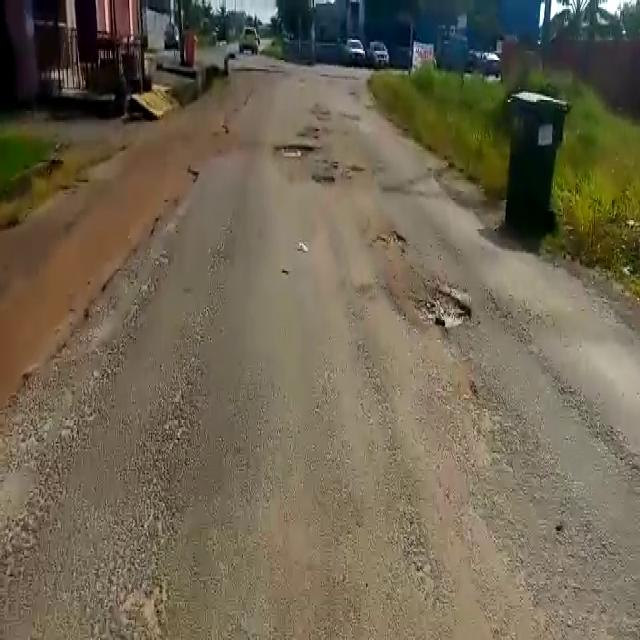Pothole: (404, 281, 477, 334), (270, 140, 316, 156), (307, 172, 336, 188)
